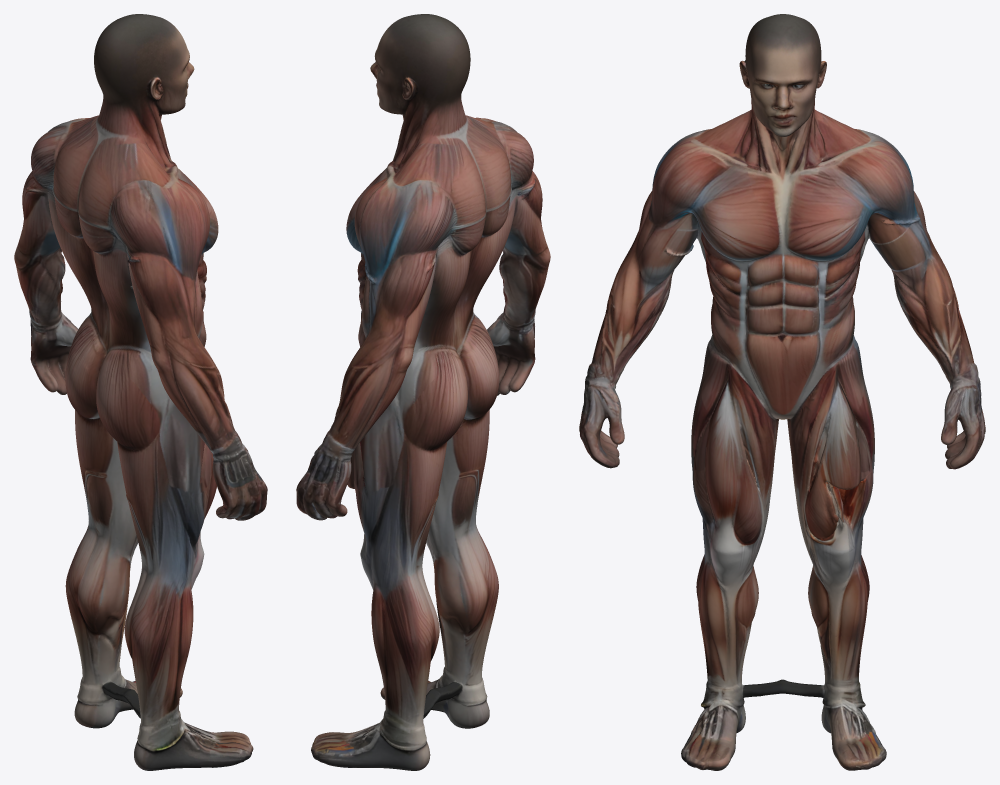
Rendered from man.glb.
3 views of the same model, side by side, from view 1: azimuth 30°, elevation 25°; view 2: azimuth 150°, elevation 25°; view 3: azimuth 270°, elevation 25° (orthographic).
Parts seen in each view (by area): view 1: tripo_node_e6589ed2-3433-4b8a-99e0-539887cda76f; view 2: tripo_node_e6589ed2-3433-4b8a-99e0-539887cda76f; view 3: tripo_node_e6589ed2-3433-4b8a-99e0-539887cda76f.
Part boxes in pixels (x1,y1,x2,y2): tripo_node_e6589ed2-3433-4b8a-99e0-539887cda76f: (14,14,267,770); tripo_node_e6589ed2-3433-4b8a-99e0-539887cda76f: (296,14,550,770); tripo_node_e6589ed2-3433-4b8a-99e0-539887cda76f: (579,14,985,770).
Size of the model in its own units: 0.2066 by 1 by 0.512.
Materials: 1 (1 with a texture image).
